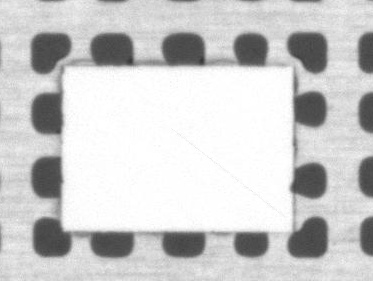DIE_CRACK: (227, 96, 373, 163)
